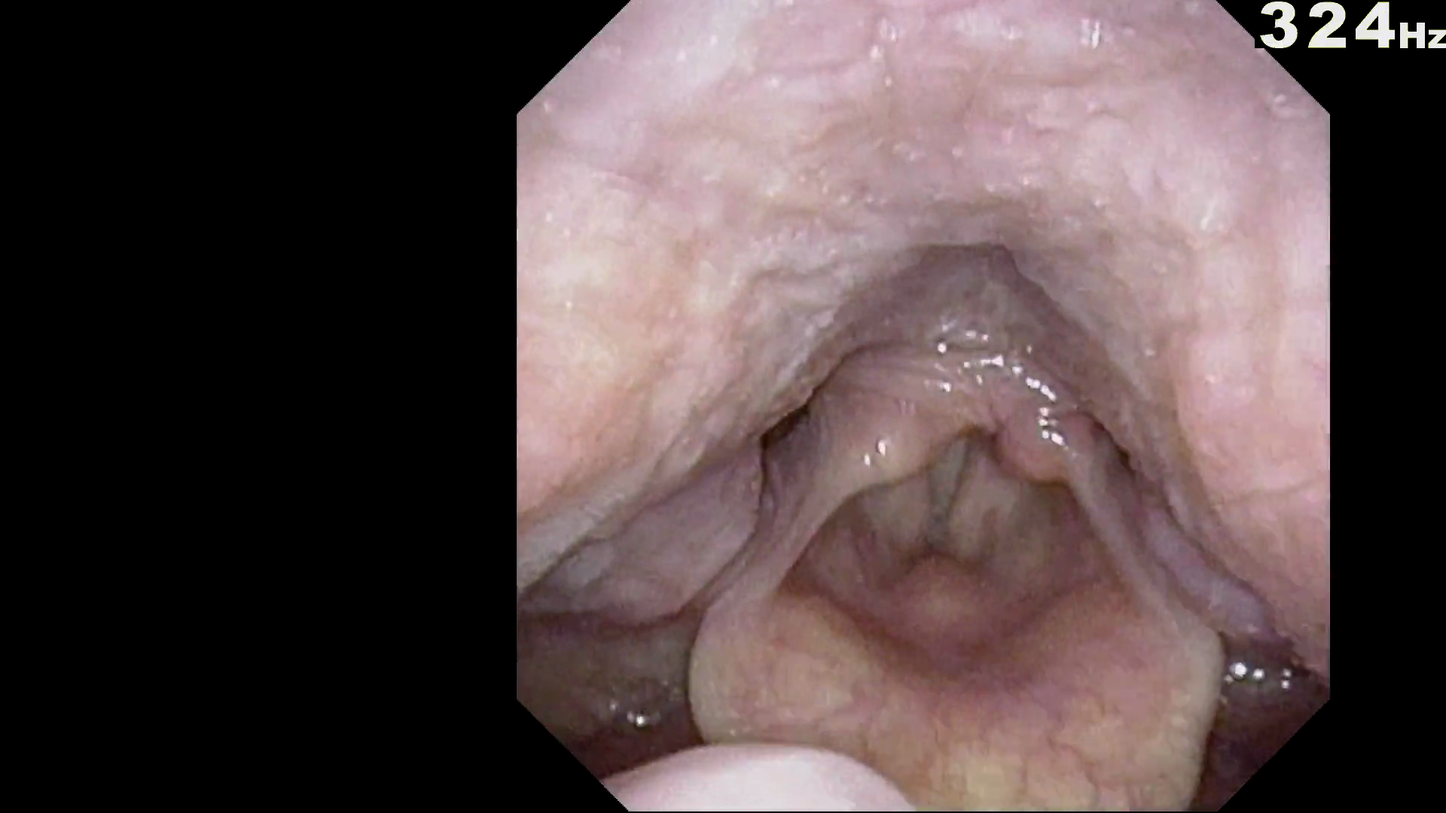epiglottis: (712, 632, 1205, 792)
trachea: (909, 465, 1036, 604)
